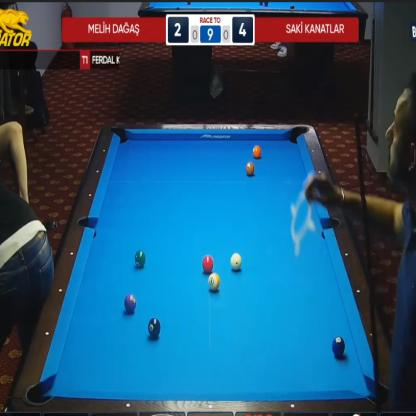Ball: (331, 335, 345, 358), (148, 317, 162, 338), (124, 294, 136, 314), (230, 252, 242, 271), (135, 249, 146, 269), (202, 255, 214, 273), (208, 273, 220, 291), (245, 162, 255, 176), (252, 145, 261, 159)
